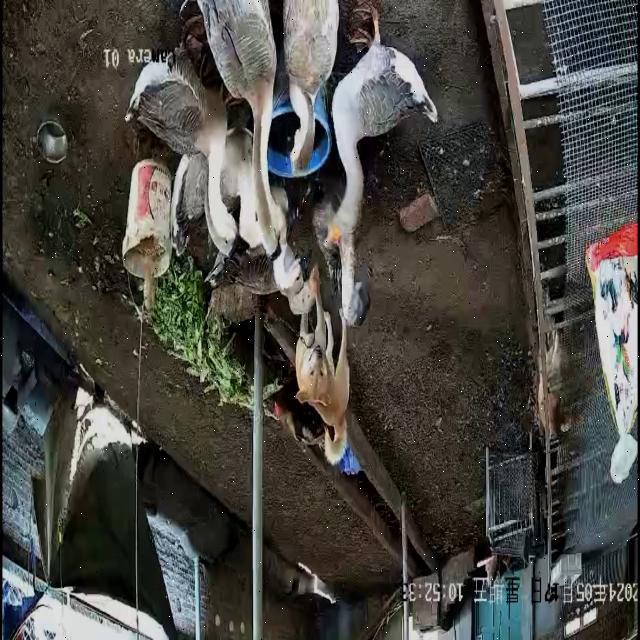dog: (295, 280, 353, 469)
